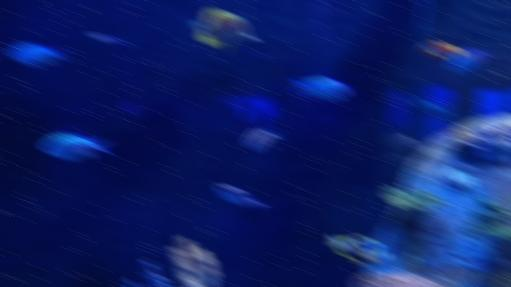Fish: (191, 10, 256, 51), (329, 235, 388, 266), (41, 133, 110, 158), (8, 44, 69, 65), (448, 43, 491, 71), (291, 79, 348, 98), (218, 185, 265, 208), (245, 126, 280, 149), (420, 41, 463, 59), (90, 35, 125, 44)
